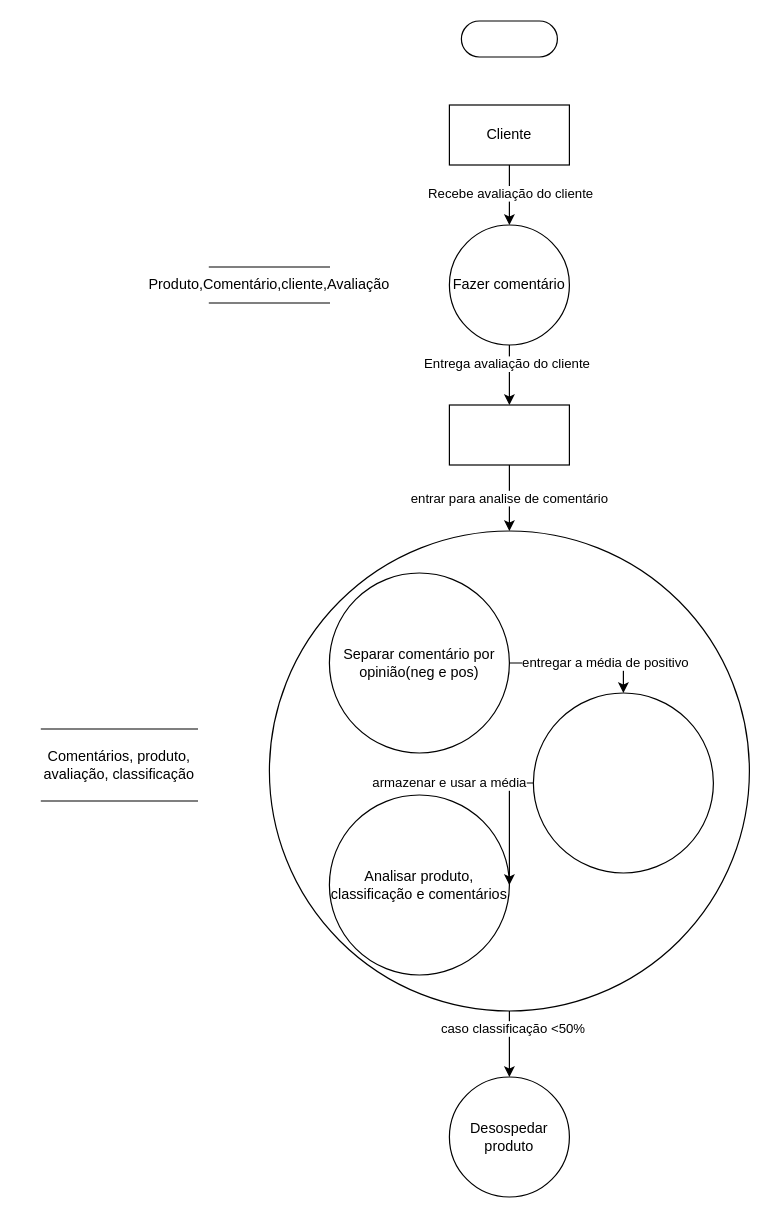
The diagram is 770 pixels wide and 1218 high, and some of its shapes have lost their labels. The box of each missing label's shape, as (x1, y1, x2, y2) in pixels:
Fazer a classificação dos produtos: (532, 692, 713, 873)
Sistema: (448, 404, 569, 465)
